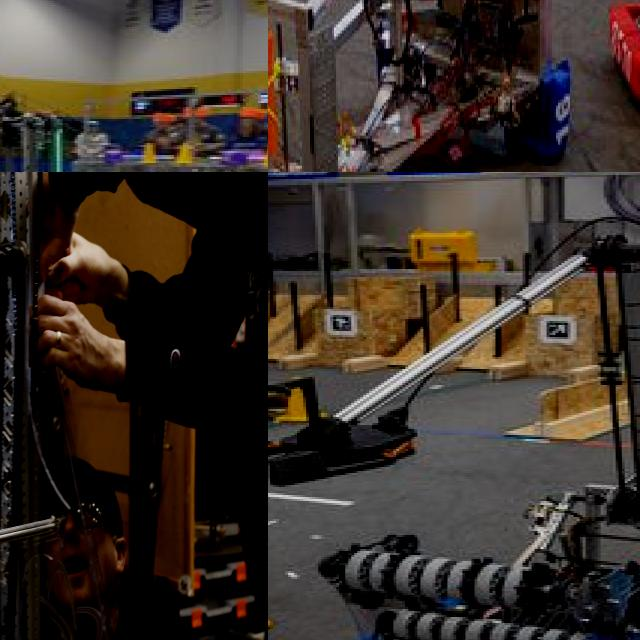FRC-Robots: (268, 224, 640, 640), (268, 0, 592, 172), (0, 172, 65, 640), (0, 87, 161, 172)
